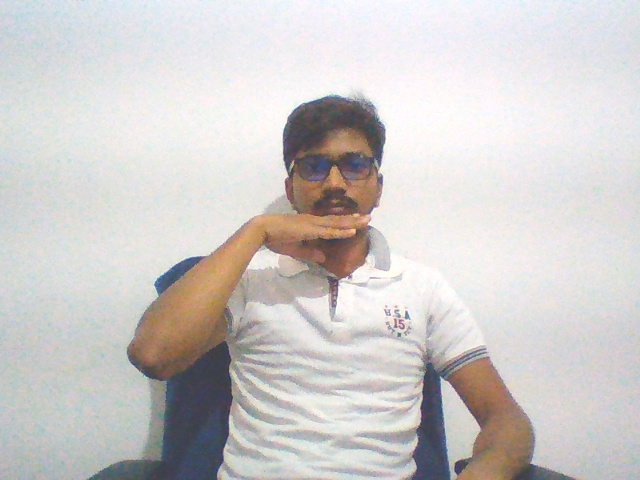elephant: (251, 197, 380, 267)
